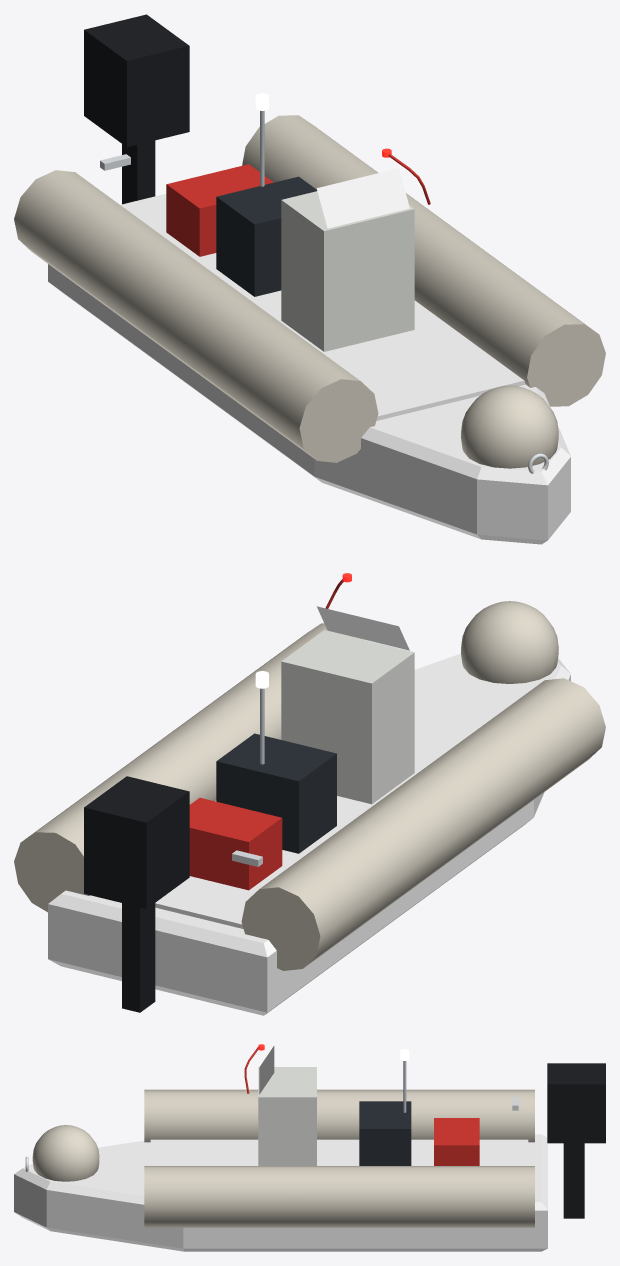
Rendered from fleet--yachtTender.glb.
The picture shows the model from 3 angles, top to bottom: view 1: azimuth 30°, elevation 25°; view 2: azimuth 150°, elevation 25°; view 3: azimuth 270°, elevation 25°; orthographic projection. The views are drawn at different scales.
Visible parts, largest first — view 1: yachtTender:shell, console, outboard, fuelTank; view 2: yachtTender:shell, console, outboard, fuelTank, navLight; view 3: yachtTender:shell, outboard, console, fuelTank, navLight.
Part boxes in pixels (box(x1,y1,x2,y2)): yachtTender:shell: box(14, 115, 605, 544); console: box(281, 168, 414, 351); outboard: box(84, 14, 189, 204); fuelTank: box(166, 164, 273, 256); yachtTender:shell: box(14, 601, 605, 1015); console: box(281, 606, 414, 804); outboard: box(84, 776, 189, 1012); fuelTank: box(189, 797, 282, 890); navLight: box(255, 671, 268, 764); yachtTender:shell: box(14, 1089, 547, 1251); outboard: box(547, 1063, 605, 1218); console: box(258, 1046, 316, 1165); fuelTank: box(434, 1118, 479, 1165); navLight: box(400, 1049, 409, 1112).
Bounding box in the file's own units: 1.86 × 1.52 × 4.54.
